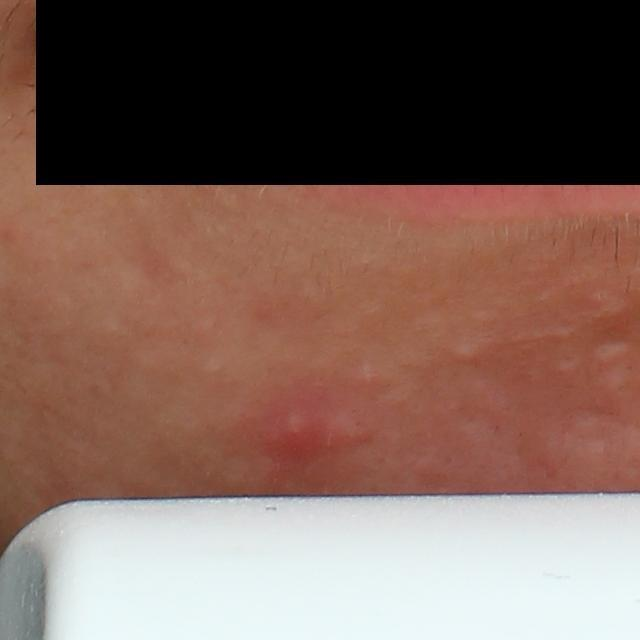hypertrophic_scar: (352, 317, 448, 401), (578, 287, 632, 326), (507, 325, 579, 348), (589, 341, 635, 364), (446, 339, 483, 364)
papule: (273, 403, 323, 451), (321, 413, 373, 455)
